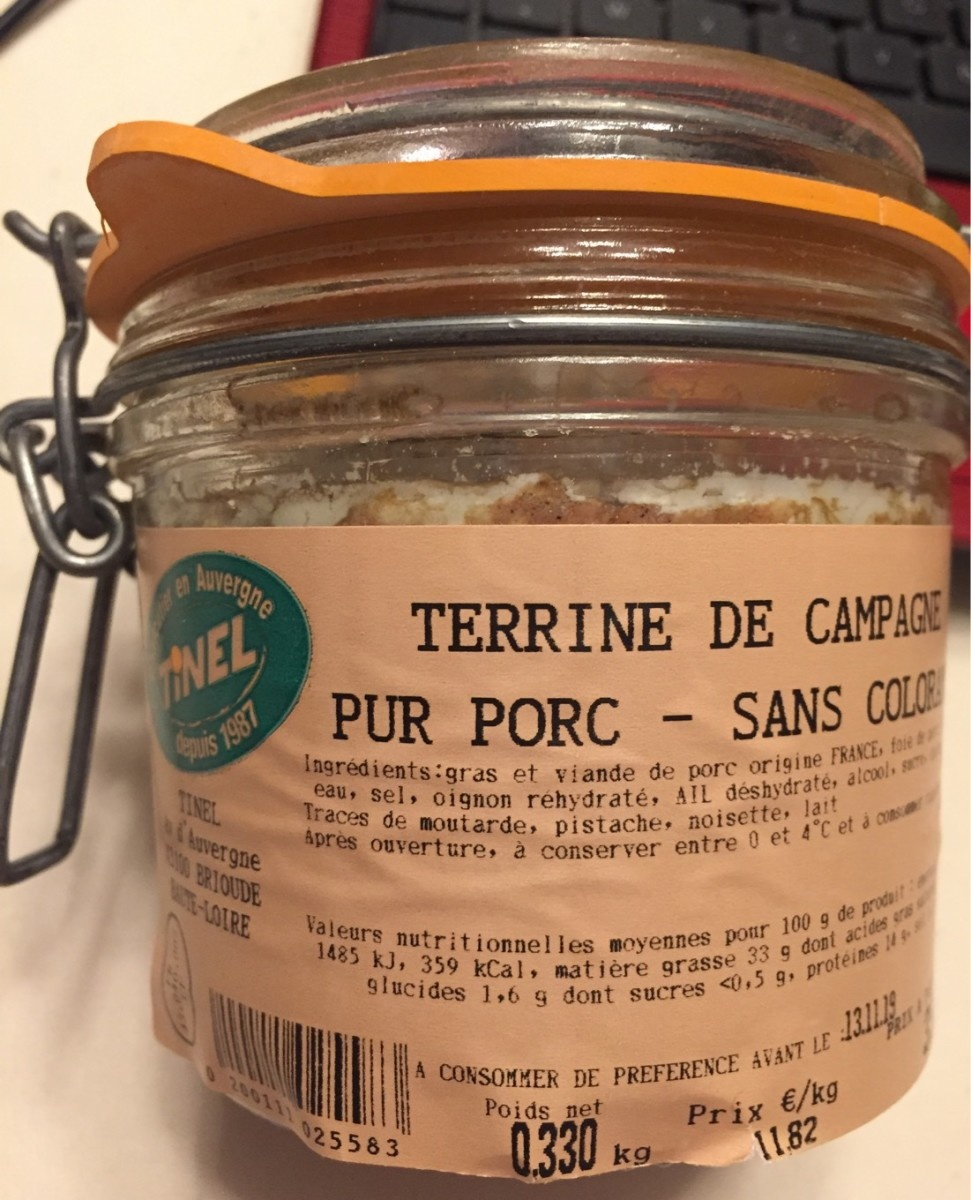ingredients: (293, 730, 943, 865)
